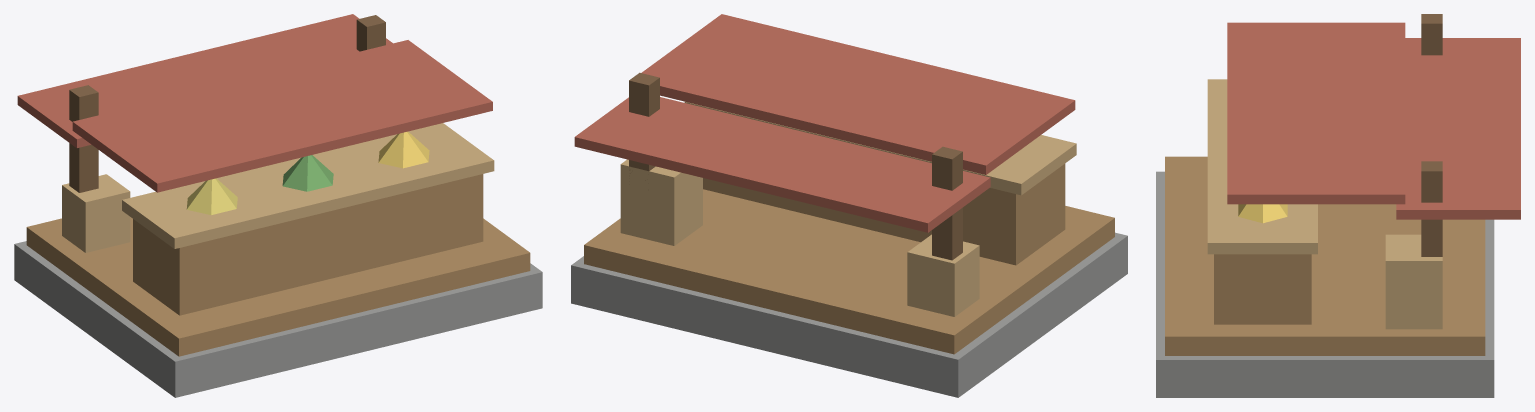
Rendered from Market.fbx.
3 renders of one model, left to right at view 1: azimuth 30°, elevation 25°; view 2: azimuth 150°, elevation 25°; view 3: azimuth 270°, elevation 25°, orthographic. The views are drawn at different scales.
Parts seen in each view (by area): view 1: Market_AwningF, Market_Counter, Market_Platform, Market_Board, Market_CounterTop, Market_AwningB, Market_Crate2, Market_Post, Market_Goods0, Market_Goods2, Market_Goods1, Market_Post.001; view 2: Market_Board, Market_AwningF, Market_Platform, Market_AwningB, Market_Counter, Market_Crate, Market_Crate2, Market_CounterTop, Market_Post, Market_Post.001; view 3: Market_AwningF, Market_Board, Market_AwningB, Market_Platform, Market_CounterTop, Market_Counter, Market_Crate, Market_Post.001, Market_Post, Market_Goods2.
Part boxes in pixels (x1=…): Market_AwningF: x1=72, y1=40, x2=492, y2=192; Market_Counter: x1=133, y1=174, x2=483, y2=315; Market_Platform: x1=14, y1=241, x2=542, y2=397; Market_Board: x1=26, y1=217, x2=530, y2=356; Market_CounterTop: x1=122, y1=123, x2=494, y2=248; Market_AwningB: x1=17, y1=14, x2=392, y2=147; Market_Crate2: x1=62, y1=174, x2=130, y2=252; Market_Post: x1=69, y1=85, x2=98, y2=192; Market_Goods0: x1=186, y1=178, x2=237, y2=215; Market_Goods2: x1=378, y1=131, x2=429, y2=168; Market_Goods1: x1=282, y1=155, x2=333, y2=191; Market_Post.001: x1=356, y1=15, x2=385, y2=51; Market_Board: x1=584, y1=189, x2=1114, y2=354; Market_AwningF: x1=641, y1=14, x2=1075, y2=174; Market_Platform: x1=571, y1=232, x2=1127, y2=397; Market_AwningB: x1=574, y1=97, x2=990, y2=232; Market_Counter: x1=703, y1=163, x2=1065, y2=265; Market_Crate: x1=620, y1=159, x2=702, y2=245; Market_Crate2: x1=907, y1=234, x2=979, y2=316; Market_CounterTop: x1=684, y1=101, x2=1076, y2=195; Market_Post: x1=932, y1=146, x2=962, y2=260; Market_Post.001: x1=629, y1=72, x2=659, y2=180; Market_AwningF: x1=1227, y1=22, x2=1405, y2=204; Market_Board: x1=1165, y1=156, x2=1485, y2=355; Market_AwningB: x1=1396, y1=38, x2=1520, y2=219; Market_Platform: x1=1156, y1=171, x2=1494, y2=397; Market_CounterTop: x1=1207, y1=79, x2=1317, y2=254; Market_Counter: x1=1214, y1=254, x2=1311, y2=324; Market_Crate: x1=1385, y1=234, x2=1442, y2=329; Market_Post.001: x1=1421, y1=161, x2=1442, y2=256; Market_Post: x1=1421, y1=14, x2=1442, y2=55; Market_Goods2: x1=1238, y1=204, x2=1287, y2=223.
Size of the model in its own units: 220 by 115 by 180.
